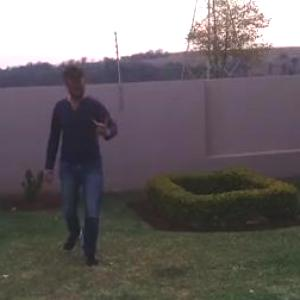takeoff-hand: (88, 112, 123, 142)
